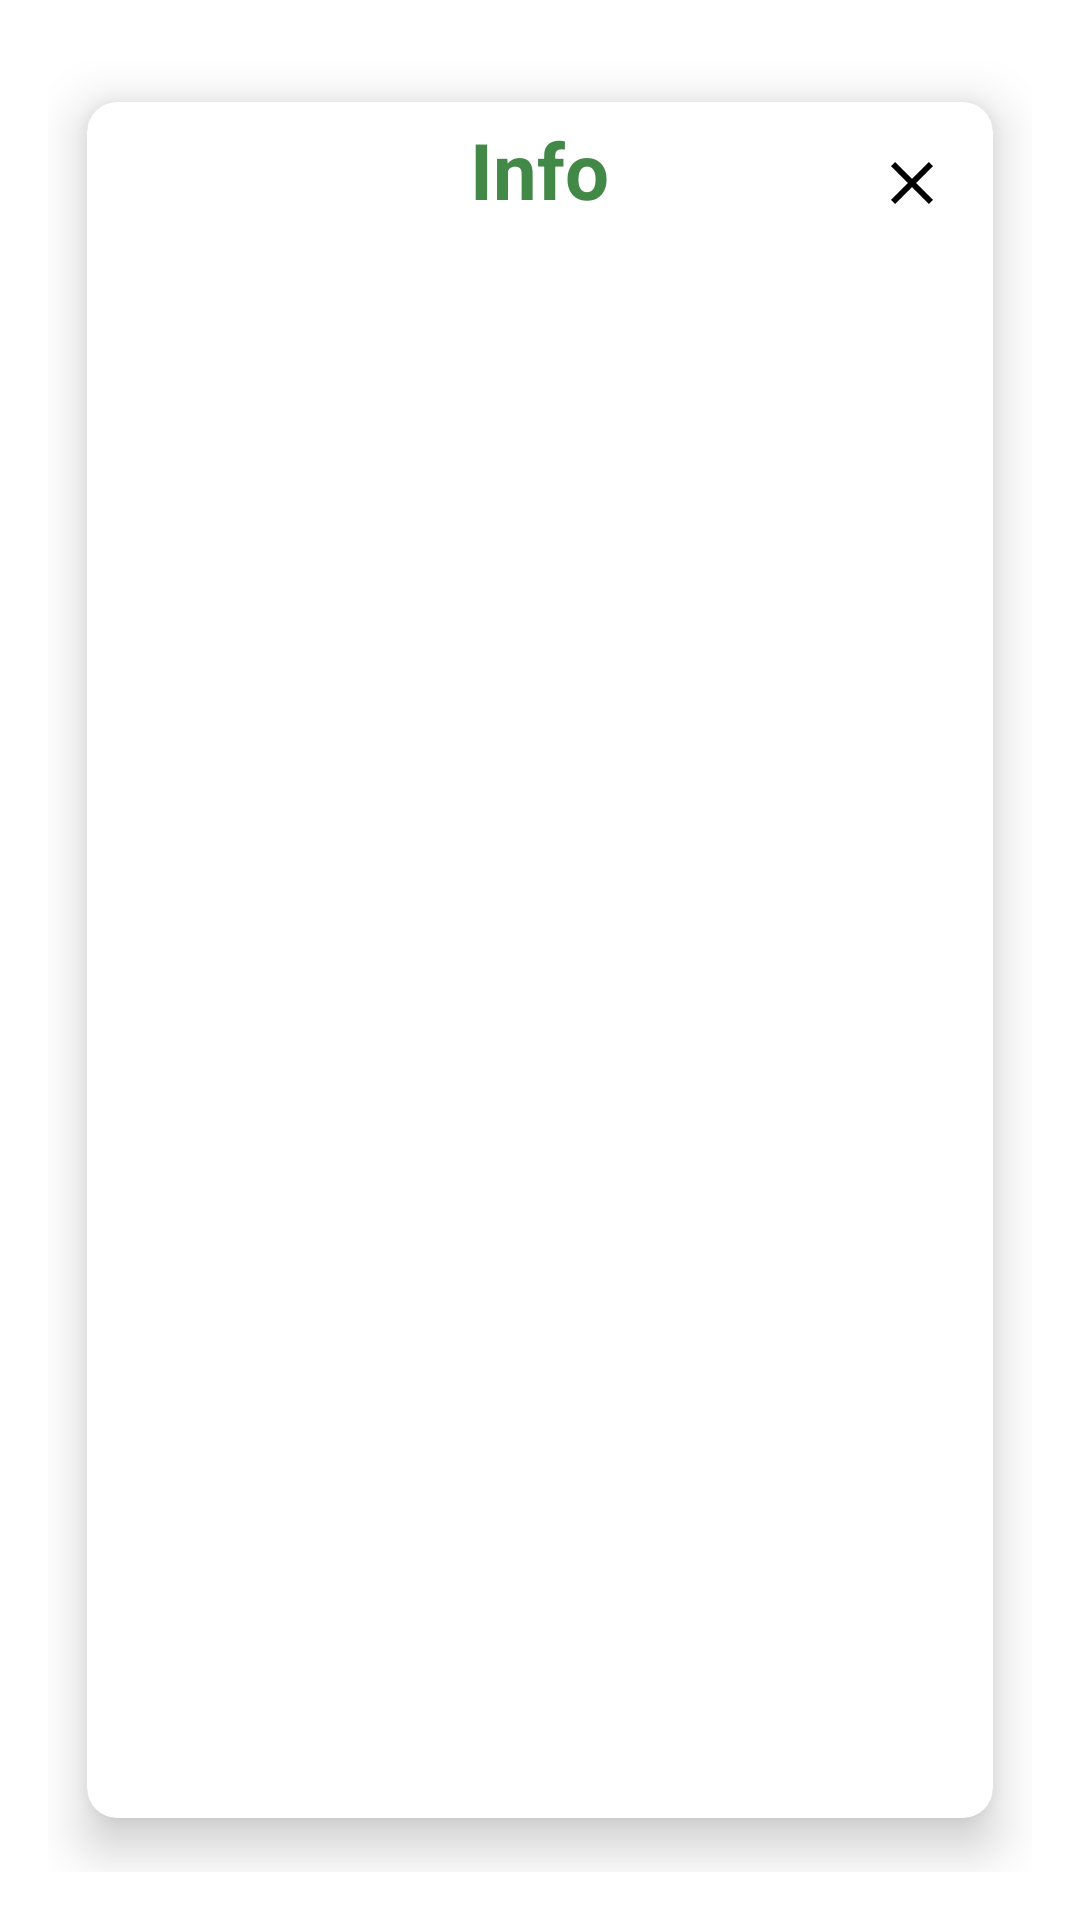

Screen size 1080*1920. Icon name, then its center in pixels as [x,y]:
exit: [912,183]
